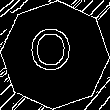O_S: (32, 28, 78, 82)
